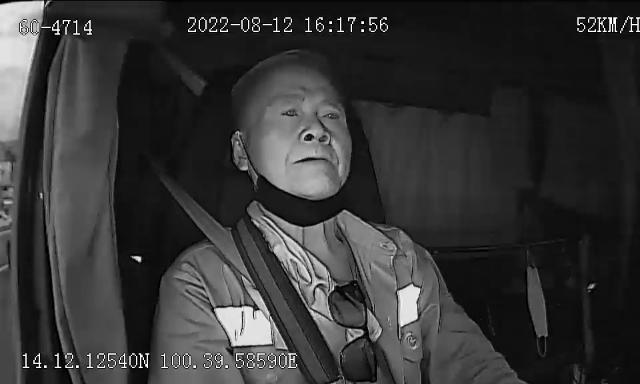SafeDriving: (274, 97, 306, 124), (314, 101, 347, 126)
Seatbelt: (163, 176, 244, 272)
